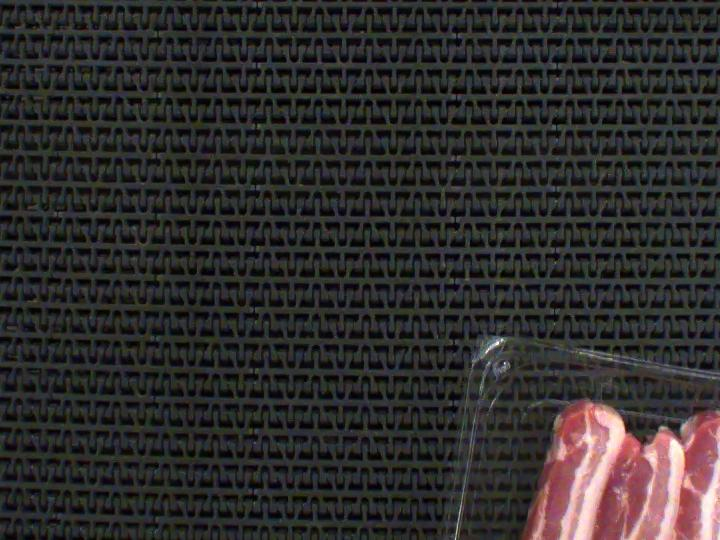packaging-error: (707, 385, 720, 422)
